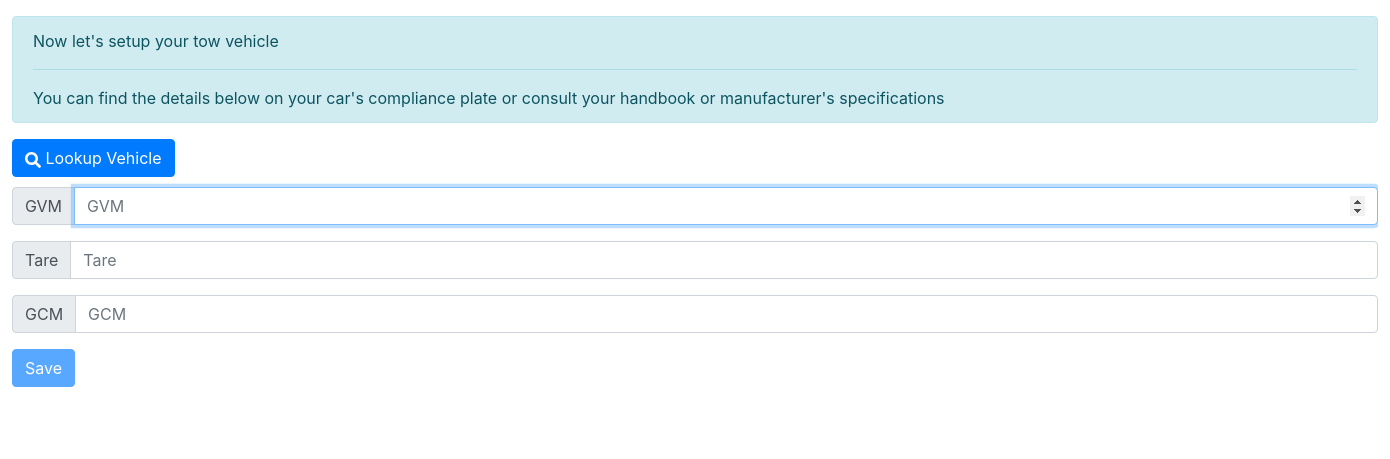
Test: shows the load setup when the user moves to load
The width and height of the screenshot is (1390, 459).
Type "2000" into the number field with placeholder "GVM". click: x=726, y=206
box: 74,187 -> 1378,225
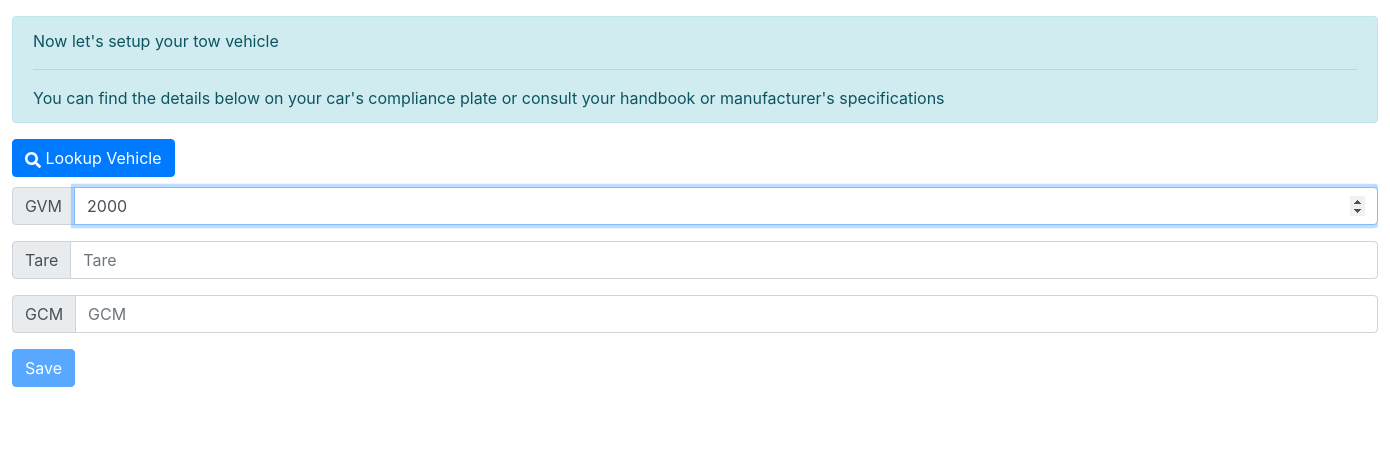
Type "1000" into the number field with placeholder "Tare". click: x=724, y=260
box: 70,241 -> 1378,279
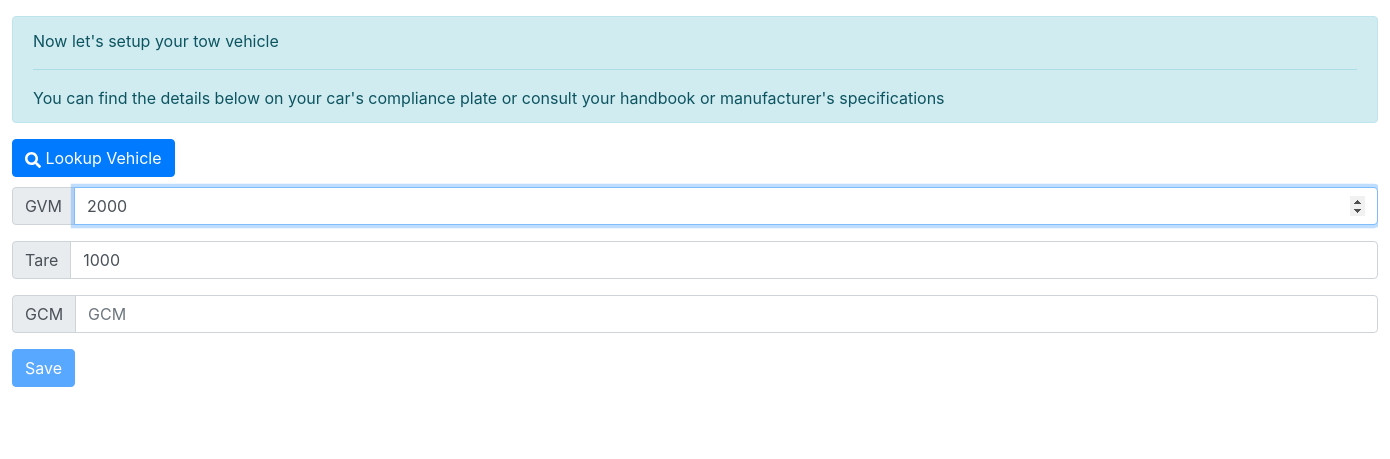
Type "3000" into the number field with placeholder "GCM". click: x=727, y=314
box: 75,295 -> 1378,333
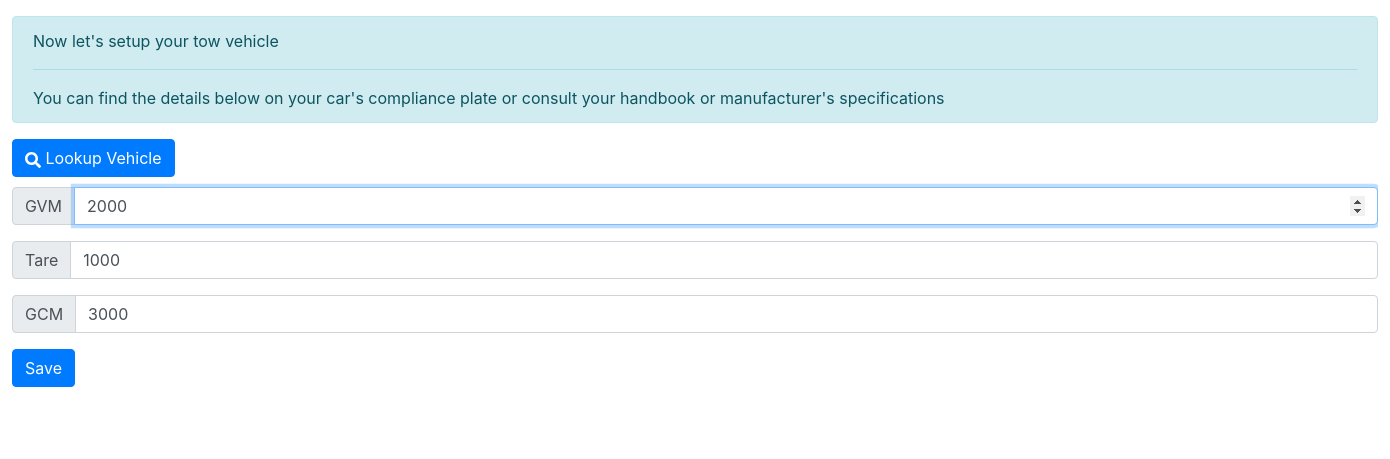
Click the button "Save". click: x=44, y=368
box: 12,349 -> 75,387
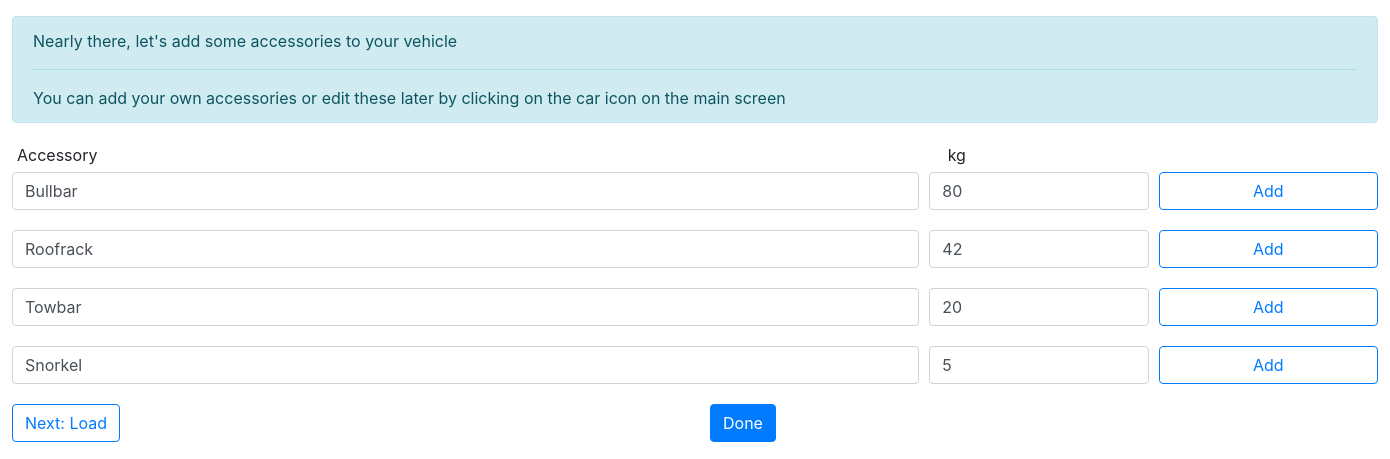
Click the button "Next: Load". click: x=66, y=423
box: 12,404 -> 120,442
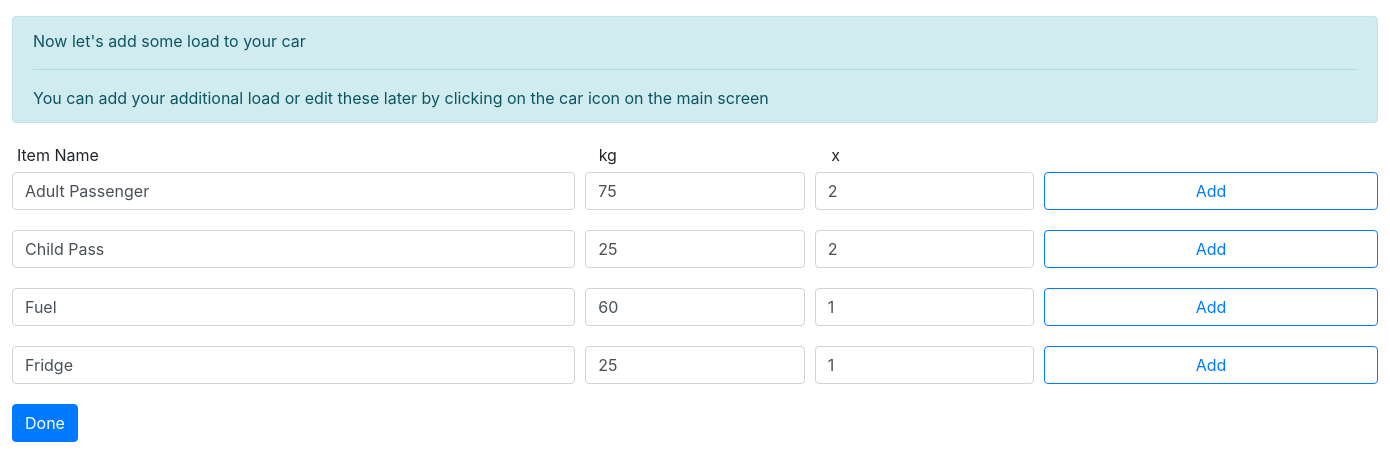
Expected: the 1st field with placeholder "Item Name" holds "Adult Passenger", 12,172 -> 575,210
